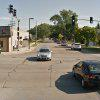Car: (67, 55, 100, 98)
